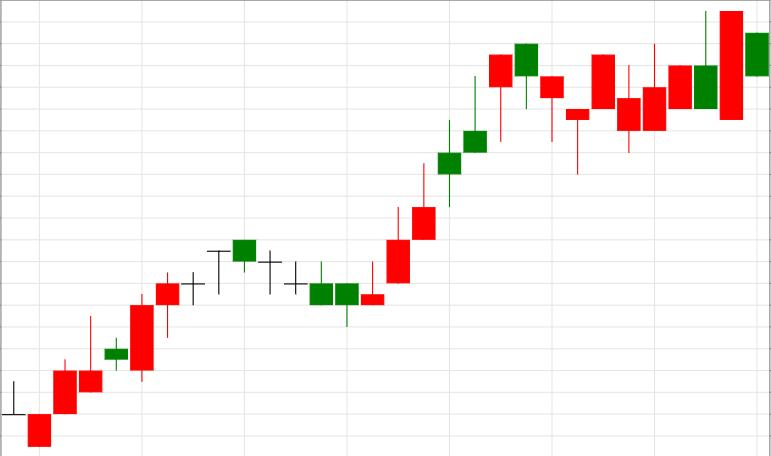hanging_man_fall: (361, 54, 512, 305)
